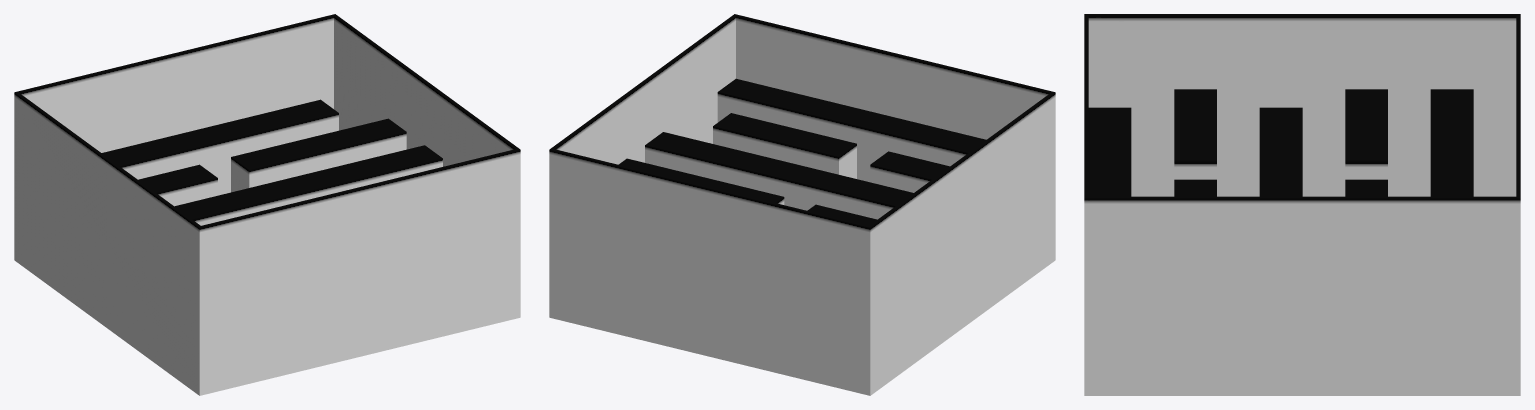
Rendered from TestMaze.fbx.
3 renders of one model, left to right at view 1: azimuth 30°, elevation 25°; view 2: azimuth 150°, elevation 25°; view 3: azimuth 270°, elevation 25°, orthographic. The views are drawn at different scales.
Parts seen in each view (by area): view 1: Union; view 2: Union; view 3: Union.
Part boxes in pixels (<box>): Union: <box>14,14,520,395</box>; Union: <box>549,14,1055,395</box>; Union: <box>1084,14,1520,395</box>.
Bounding box in the file's own units: 102 × 51 × 102.
